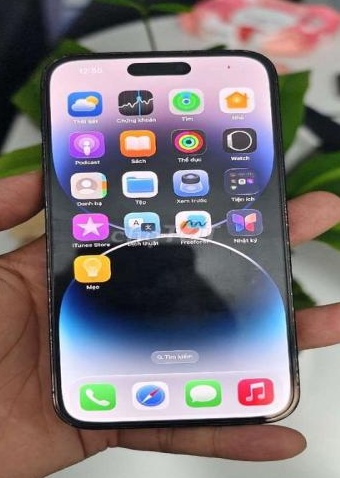scratch: (31, 119, 61, 412), (279, 184, 303, 403), (36, 45, 74, 83)
